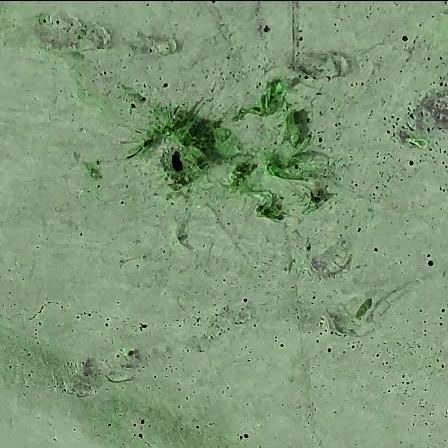spalling: (168, 147, 184, 174)
